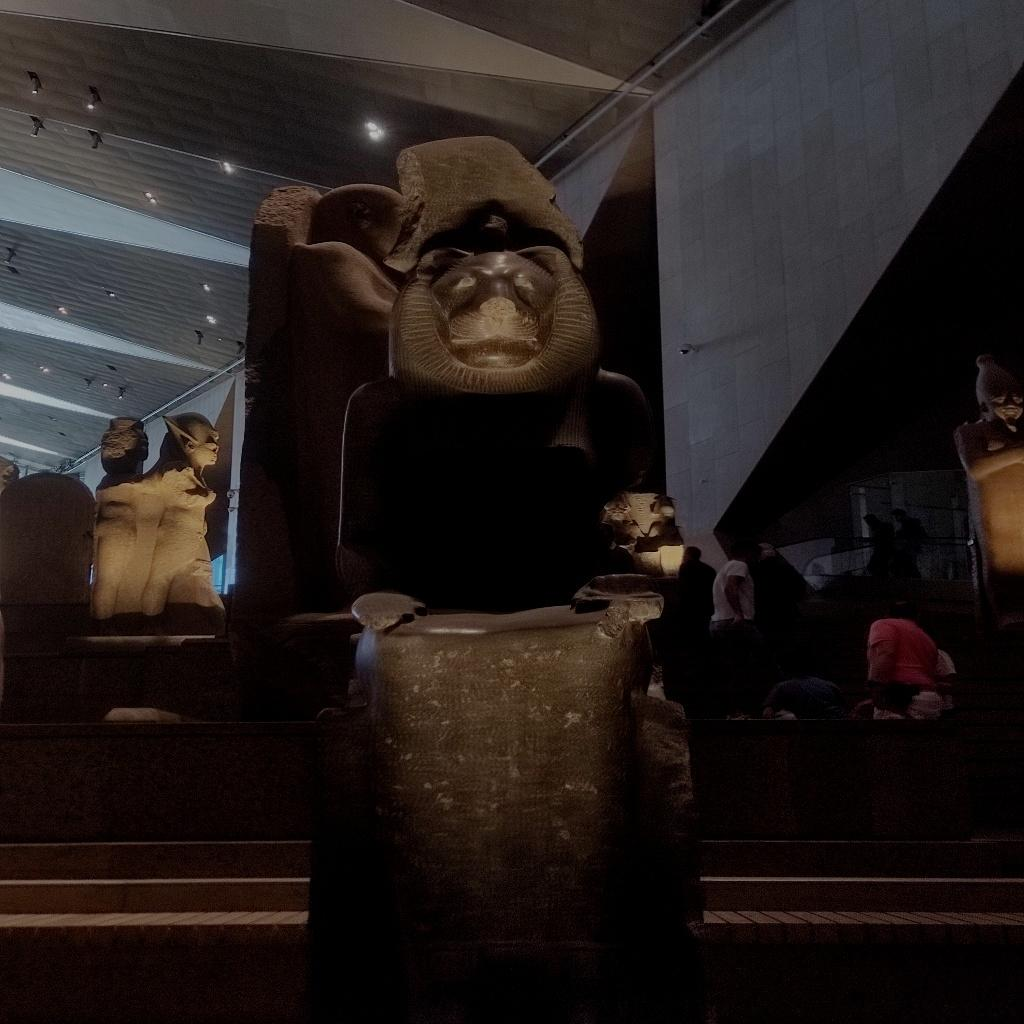Seated Statue of God Sekhmet: (324, 133, 662, 1005)
